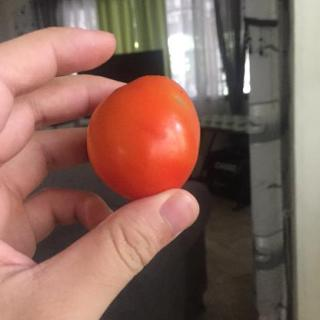Tomat: (76, 72, 211, 206)
